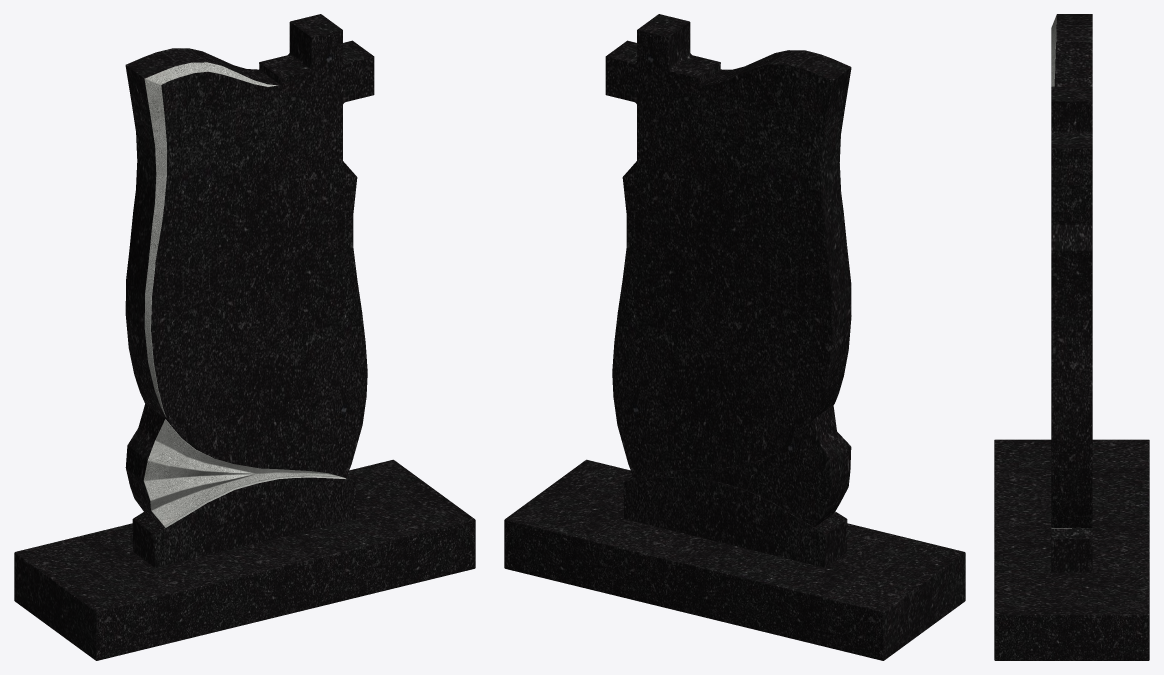
File: Number 10.gltf
3 views of the same model, side by side, from view 1: azimuth 30°, elevation 25°; view 2: azimuth 150°, elevation 25°; view 3: azimuth 270°, elevation 25° (orthographic). The views are drawn at different scales.
Visible parts, largest first — view 1: Cube.021, Cube.020; view 2: Cube.021, Cube.020; view 3: Cube.020, Cube.021.
Part boxes in pixels (x1=…): Cube.021: x1=125, y1=14, x2=374, y2=567; Cube.020: x1=14, y1=459, x2=475, y2=660; Cube.021: x1=605, y1=14, x2=851, y2=567; Cube.020: x1=504, y1=459, x2=965, y2=660; Cube.020: x1=994, y1=439, x2=1149, y2=660; Cube.021: x1=1051, y1=14, x2=1092, y2=572.
Bounding box in the file's own units: 0.8 × 1.09 × 0.3.
2 materials, 2 textured.
